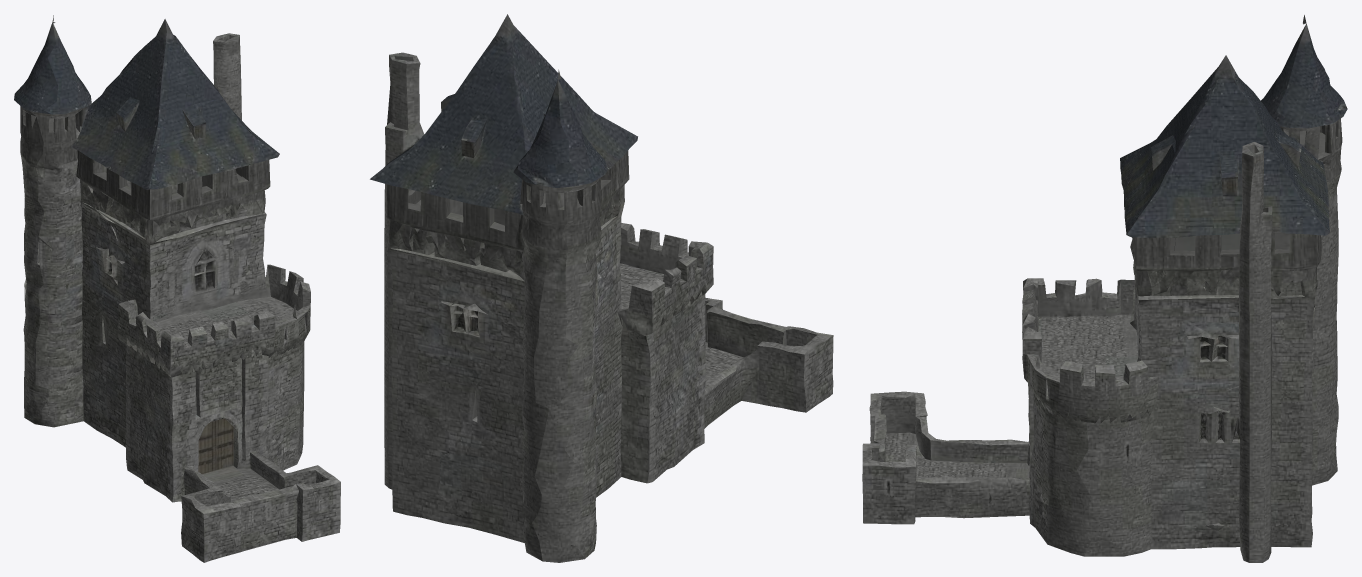
Rendered from keep_medieval.glb.
3 renders of one model, left to right at view 1: azimuth 30°, elevation 25°; view 2: azimuth 150°, elevation 25°; view 3: azimuth 270°, elevation 25°, orthographic. The views are drawn at different scales.
Parts seen in each view (by area): view 1: keep_medieval; view 2: keep_medieval; view 3: keep_medieval.
Part boxes in pixels (x1,y1,x2,y2): keep_medieval: (14,15,340,562); keep_medieval: (370,14,833,562); keep_medieval: (862,15,1347,562).
Bounding box in the file's own units: 0.9977 × 1.87 × 1.78.
1 material, 1 textured.
